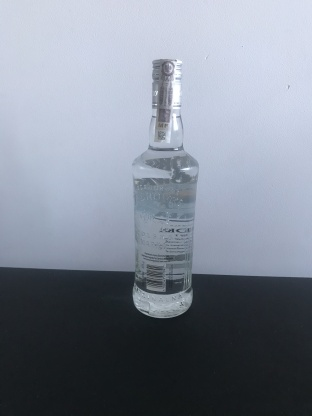nakretka: (149, 55, 184, 112)
